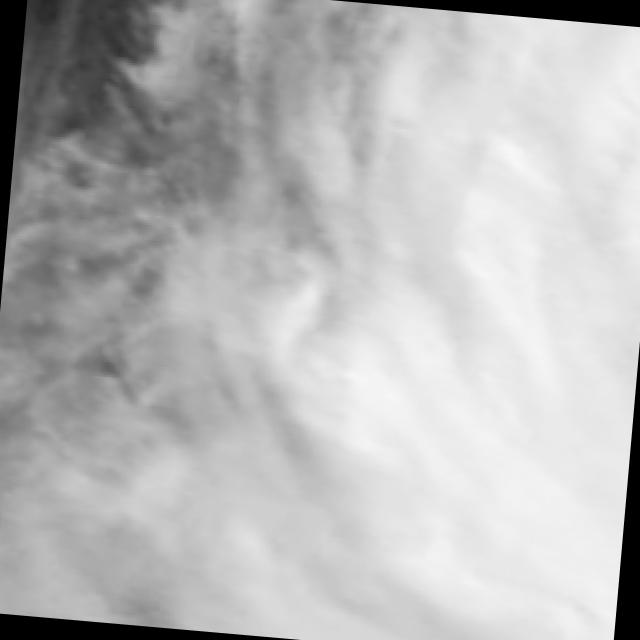CB: (315, 3, 640, 640)
